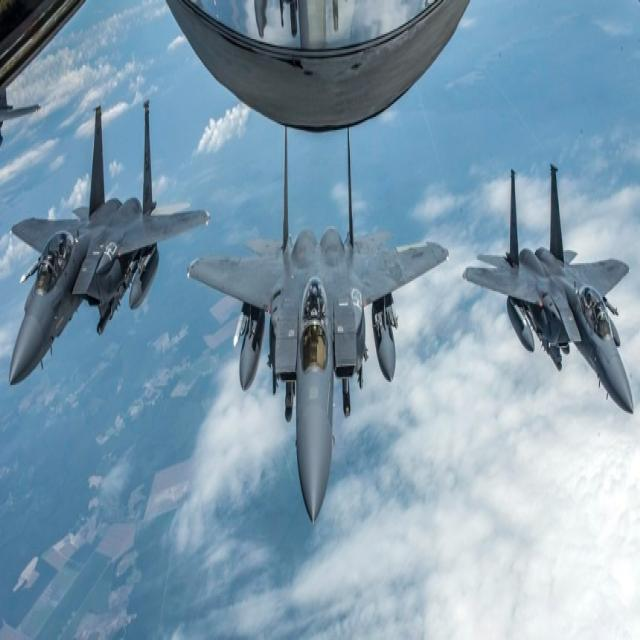F15: (194, 82, 451, 538), (0, 66, 214, 407), (461, 136, 640, 440)
